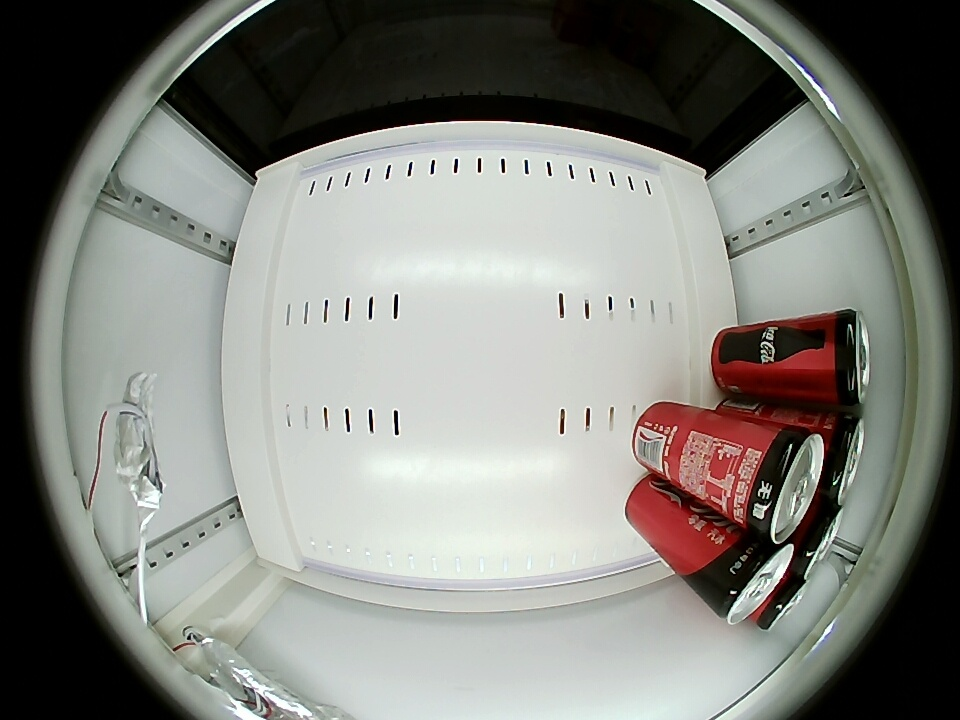lingdukele: (728, 423, 824, 545), (708, 533, 796, 626), (804, 309, 870, 406), (813, 411, 865, 507), (790, 502, 843, 579), (757, 573, 810, 631)
